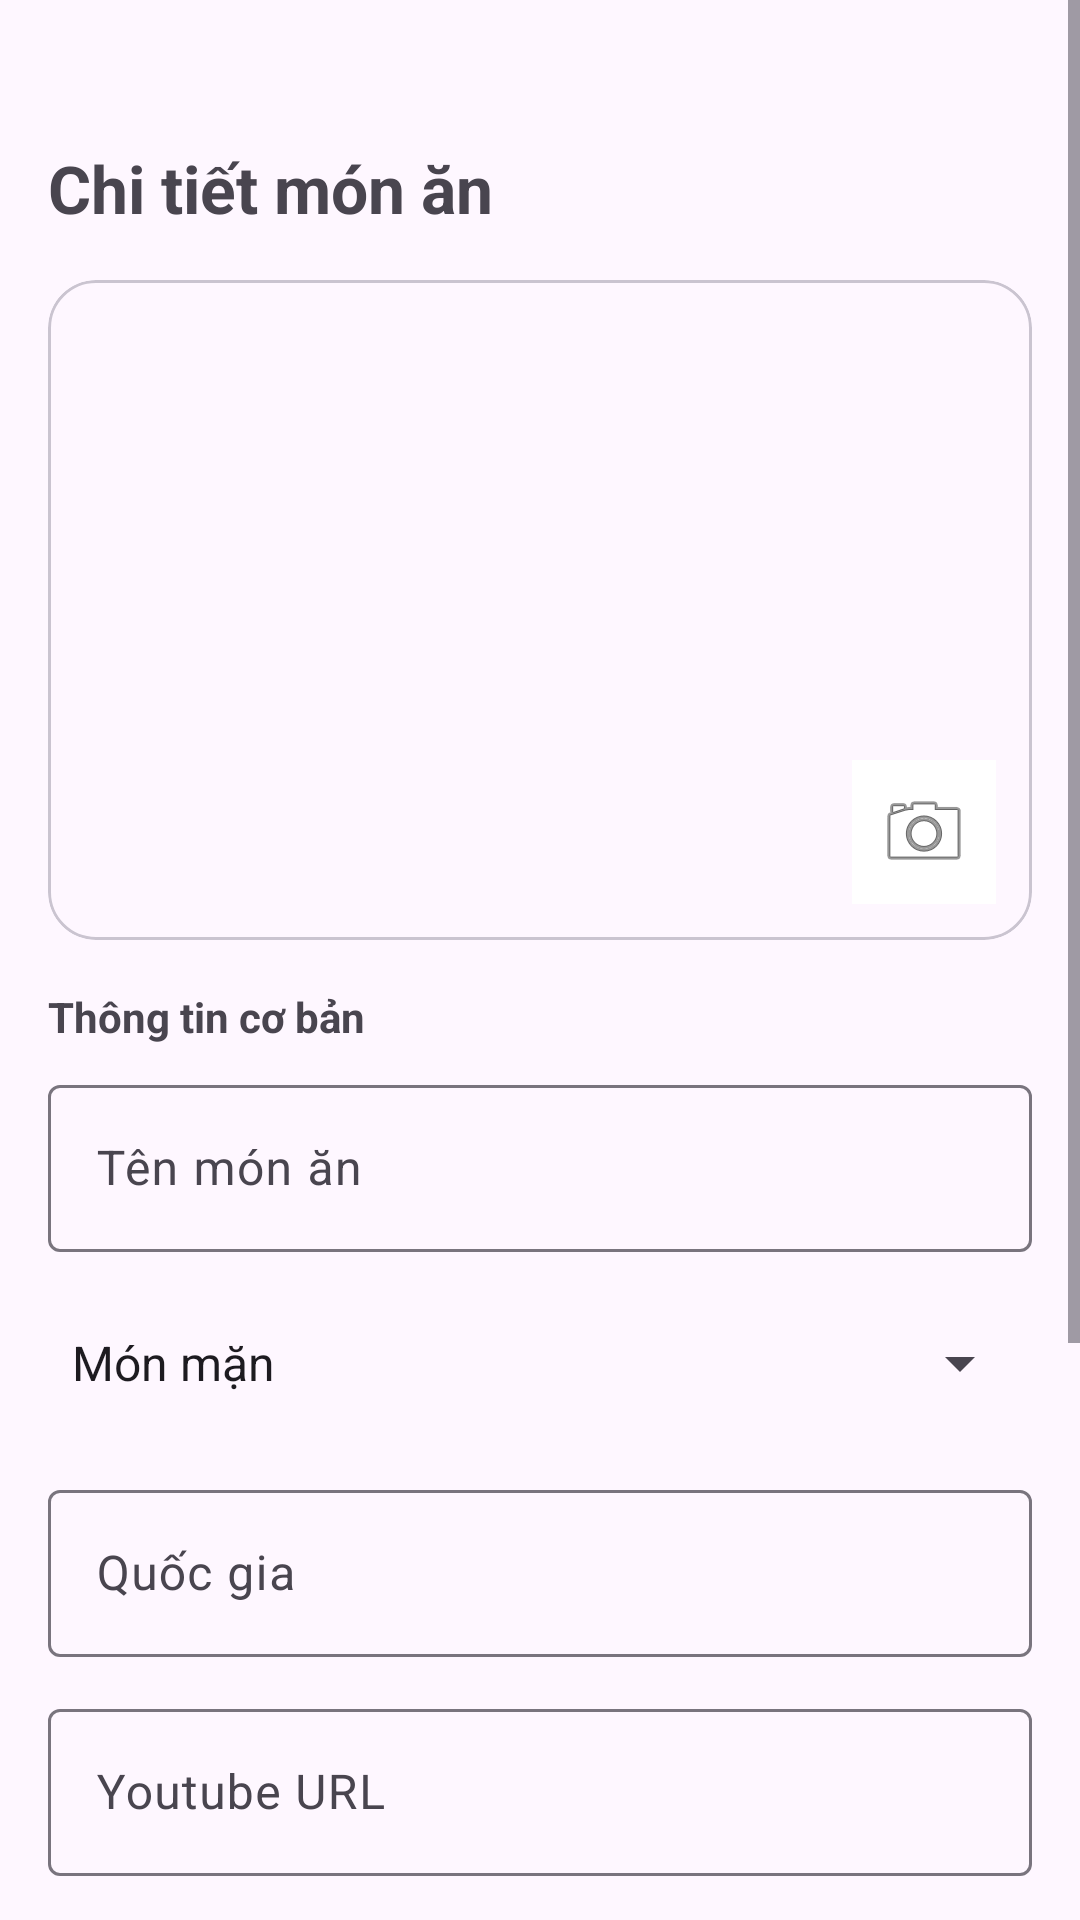

Screen size 1080px×1920px. Icon name, then its box in pixels as (x1, y1, x2, y2):
camera: (887, 801, 961, 860)
